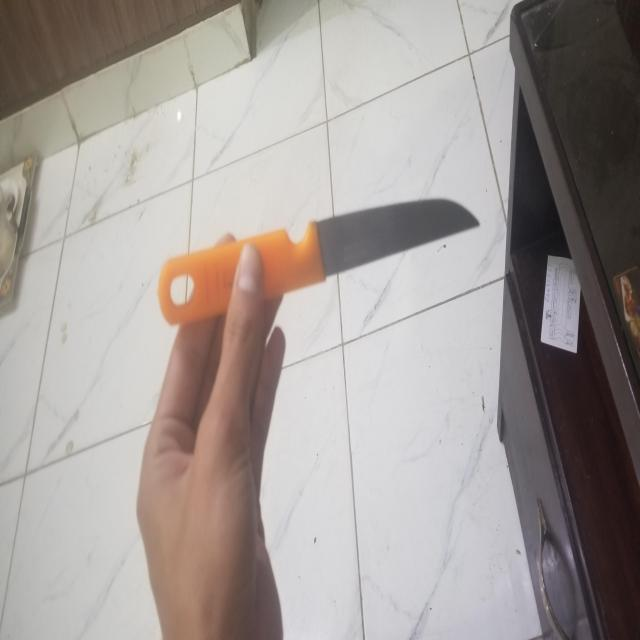faca: (160, 195, 480, 322)
